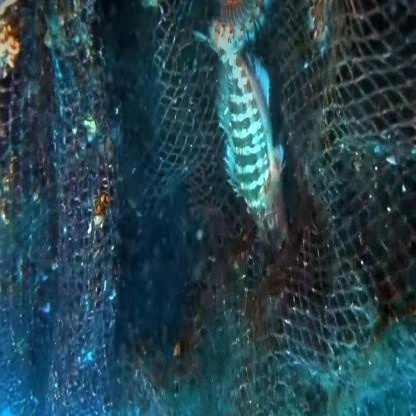net: (36, 52, 390, 416)
